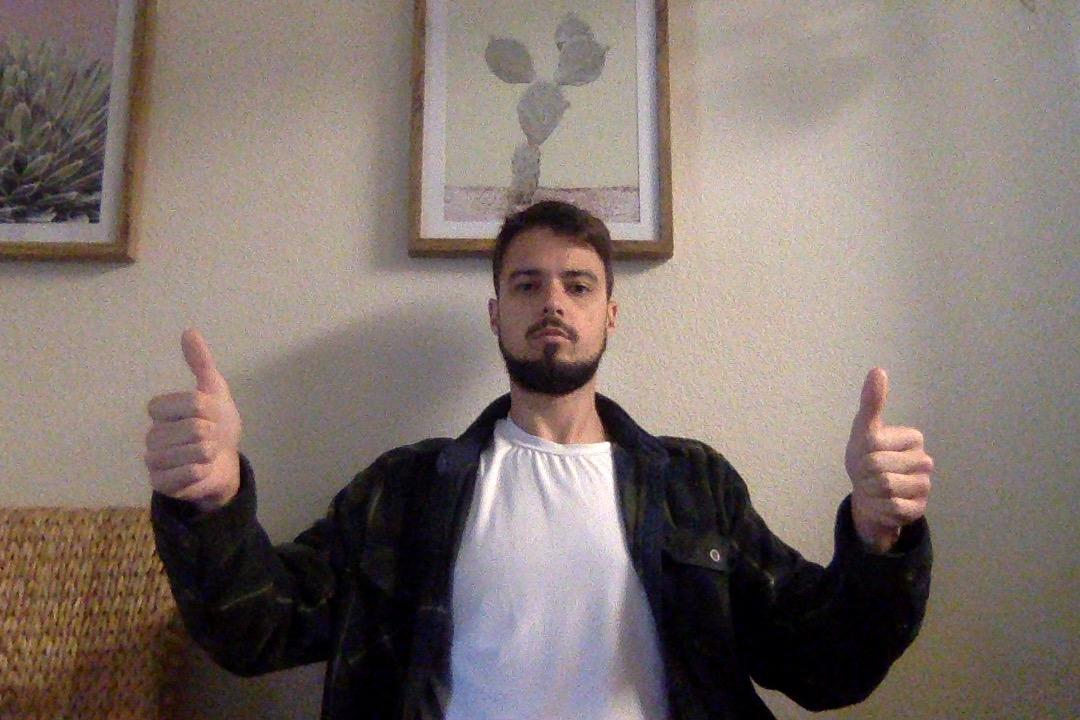Thumbs-Up: (132, 323, 257, 504), (839, 356, 946, 540)
